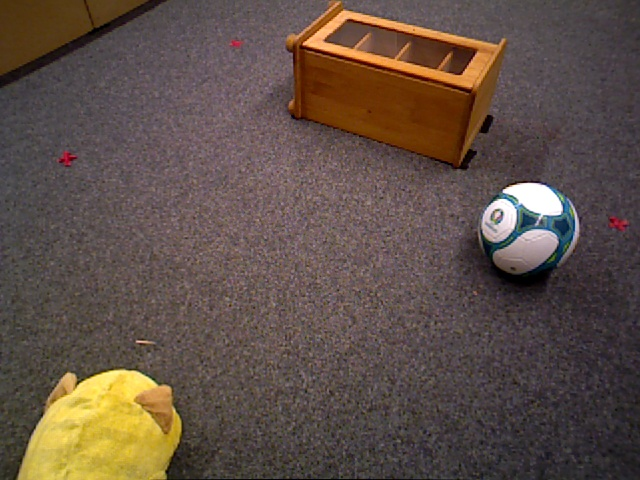grasp: (18, 369, 184, 480)
kick: (475, 180, 580, 278)
